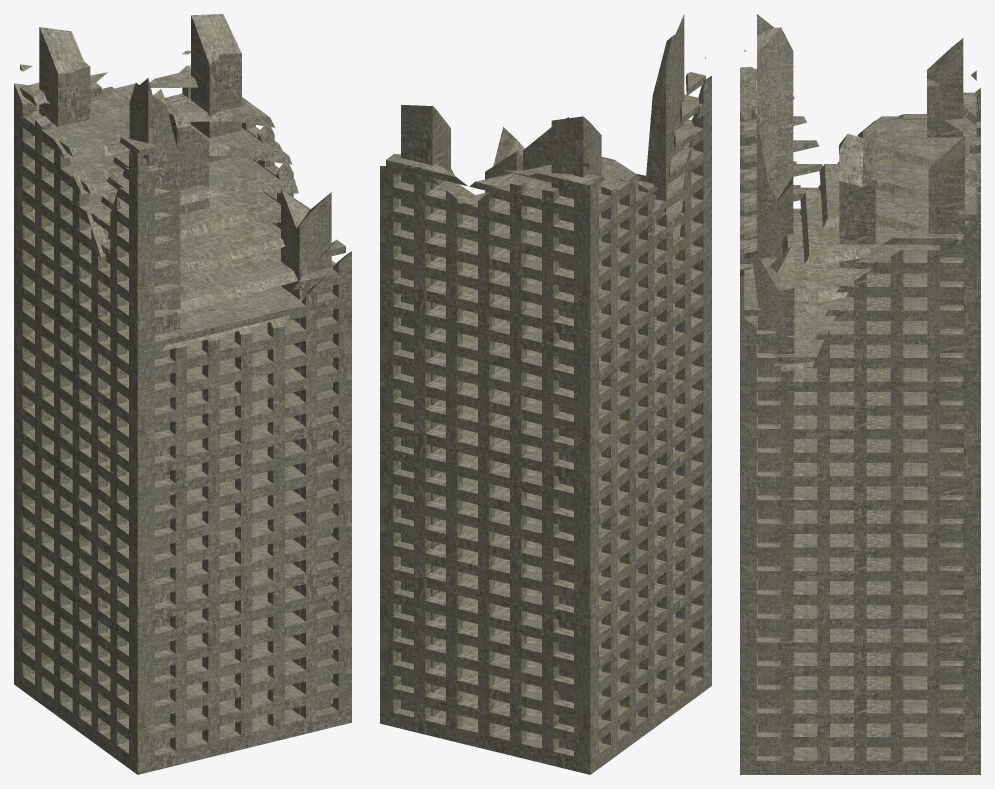
Rendered from building_02.glb.
3 views of the same model, side by side, from view 1: azimuth 30°, elevation 25°; view 2: azimuth 150°, elevation 25°; view 3: azimuth 270°, elevation 25° (orthographic). The views are drawn at different scales.
Visible parts, largest first — view 1: Object_12.2864, Object_12.2815, Object_12.2835, Object_12.2898, Object_12.2741, Object_12.2879, Object_12.2751, Object_12.2707, Object_12.2906, Object_12.2653, Object_12.2651, Object_12.183 (+58 smaller); view 2: Object_12.2690, Object_12.2815, Object_12.2814, Object_12.2741, Object_12.2879, Object_12.2751, Object_12.2639, Object_12.2638, Object_12.2702, Object_12.2693, Object_12.2695, Object_12.2678 (+47 smaller); view 3: Object_12.2829, Object_12.2760, Object_12.2756, Object_12.2640, Object_12.2905, Object_12.2894, Object_12.2655, Object_12.2653, Object_12.2658, Object_12.2663, Object_12.2877, Object_12.2897 (+32 smaller).
Part boxes in pixels (x1,y1,x2,y2): Object_12.2864: (137, 153, 351, 774); Object_12.2815: (14, 84, 137, 774); Object_12.2835: (317, 251, 351, 722); Object_12.2898: (148, 79, 180, 750); Object_12.2741: (22, 117, 53, 592); Object_12.2879: (98, 187, 128, 691); Object_12.2751: (41, 131, 72, 625); Object_12.2707: (252, 324, 305, 572); Object_12.2906: (299, 192, 331, 714); Object_12.2653: (33, 190, 280, 289); Object_12.2651: (33, 222, 335, 313); Object_12.183: (33, 258, 332, 339); Object_12.2690: (380, 185, 590, 774); Object_12.2815: (590, 75, 711, 774); Object_12.2814: (380, 166, 413, 723); Object_12.2741: (599, 188, 629, 649); Object_12.2879: (673, 129, 703, 638); Object_12.2751: (617, 182, 647, 654); Object_12.2639: (401, 105, 432, 716); Object_12.2638: (551, 116, 583, 750); Object_12.2702: (425, 234, 477, 480); Object_12.2693: (457, 218, 509, 416); Object_12.2695: (393, 167, 445, 329); Object_12.2678: (489, 512, 541, 615); Object_12.2829: (740, 222, 980, 774); Object_12.2760: (830, 263, 890, 665); Object_12.2756: (903, 250, 963, 628); Object_12.2640: (928, 158, 964, 755); Object_12.2905: (758, 257, 794, 755); Object_12.2894: (757, 27, 793, 199); Object_12.2655: (744, 187, 963, 285); Object_12.2653: (744, 211, 963, 309); Object_12.2658: (824, 164, 963, 262); Object_12.2663: (863, 116, 976, 171); Object_12.2877: (756, 370, 817, 462); Object_12.2897: (757, 118, 793, 261).
Size of the model in its own units: 3.05 by 9.33 by 3.05.
1 material, 1 textured.
